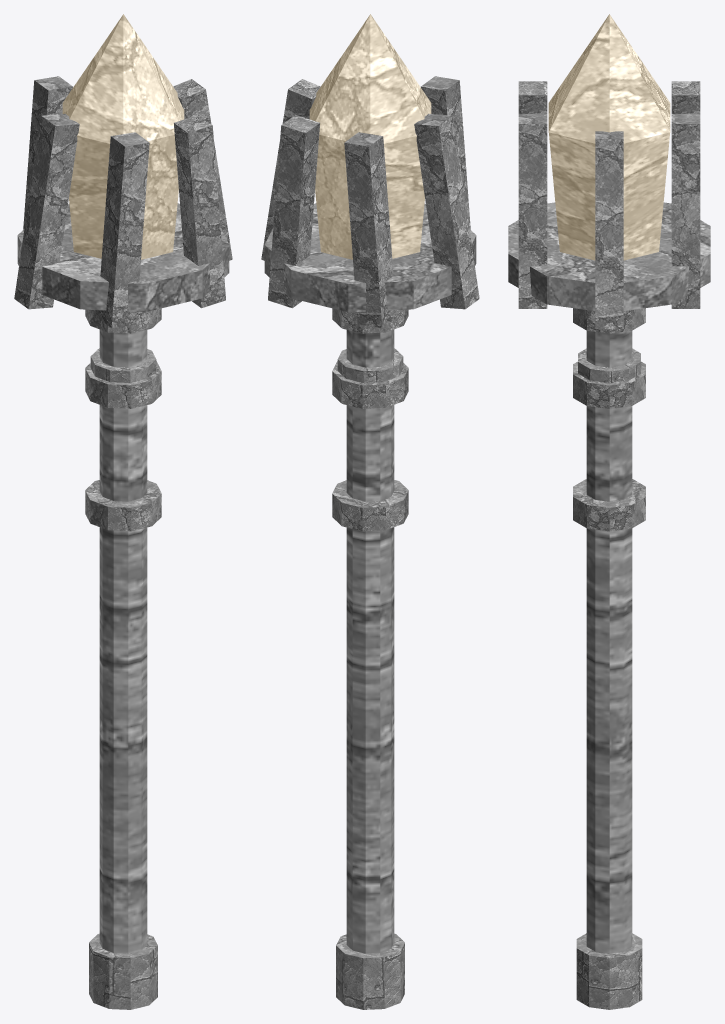
File: Magenheim_Staff_Earth_Advanced.glb
3 views of the same model, side by side, from view 1: azimuth 30°, elevation 25°; view 2: azimuth 150°, elevation 25°; view 3: azimuth 270°, elevation 25° (orthographic).
Visible parts, largest first — view 1: shaft, seismic-core, seismic-ring, stone-rib-3, stone-rib-2, stone-rib-1, pommel, reinforcement-0.22, reinforcement-0.48, stone-rib-4, stone-rib-0, neck (+1 smaller); view 2: shaft, seismic-core, seismic-ring, stone-rib-3, stone-rib-4, stone-rib-5, pommel, reinforcement-0.22, reinforcement-0.48, stone-rib-2, stone-rib-0, neck (+1 smaller); view 3: shaft, seismic-core, seismic-ring, stone-rib-0, stone-rib-1, stone-rib-5, pommel, reinforcement-0.22, reinforcement-0.48, neck, reinforcement-0.64, stone-rib-2 (+1 smaller).
Part boxes in pixels (x1,y1,x2,y2): shaft: [99, 329, 147, 953]; seismic-core: [62, 14, 184, 259]; seismic-ring: [17, 203, 229, 312]; stone-rib-3: [14, 113, 79, 309]; stone-rib-2: [97, 132, 149, 328]; stone-rib-1: [174, 115, 225, 308]; pommel: [89, 933, 157, 1009]; reinforcement-0.22: [85, 480, 161, 531]; reinforcement-0.48: [85, 361, 161, 408]; stone-rib-4: [23, 76, 72, 229]; stone-rib-0: [173, 79, 232, 260]; neck: [90, 348, 156, 382]; shaft: [346, 329, 394, 953]; seismic-core: [309, 14, 431, 259]; seismic-ring: [264, 203, 476, 312]; stone-rib-3: [414, 113, 479, 309]; stone-rib-4: [344, 132, 396, 328]; stone-rib-5: [268, 115, 319, 308]; pommel: [336, 933, 404, 1009]; reinforcement-0.22: [332, 480, 408, 531]; reinforcement-0.48: [332, 361, 408, 408]; stone-rib-2: [421, 76, 470, 229]; stone-rib-0: [261, 79, 320, 260]; neck: [337, 348, 403, 382]; shaft: [586, 330, 632, 953]; seismic-core: [548, 14, 670, 260]; seismic-ring: [508, 202, 710, 310]; stone-rib-0: [595, 131, 623, 328]; stone-rib-1: [518, 114, 547, 308]; stone-rib-5: [671, 114, 700, 308]; pommel: [576, 933, 642, 1009]; reinforcement-0.22: [573, 479, 645, 531]; reinforcement-0.48: [573, 361, 645, 408]; neck: [578, 348, 640, 383]; reinforcement-0.64: [573, 308, 645, 333]; stone-rib-2: [518, 81, 547, 113].
Bounding box in the file's own units: 0.4538 × 2.09 × 0.3899.
Materials: 5 (5 with a texture image).
